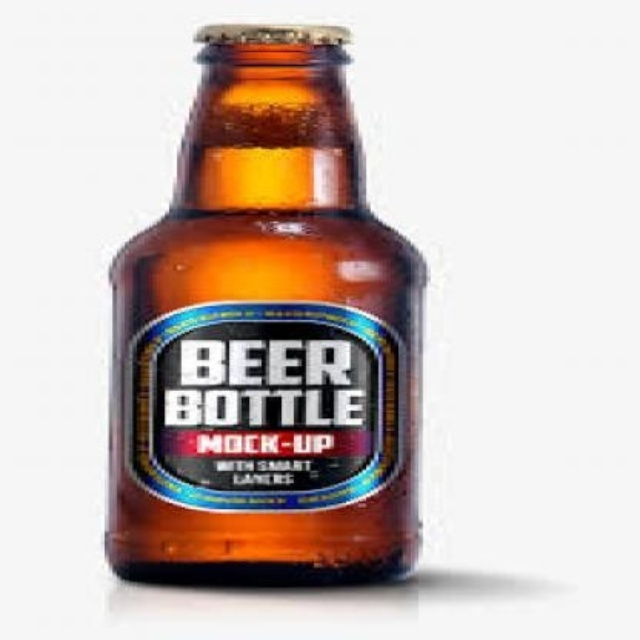trash: (106, 25, 425, 582)
